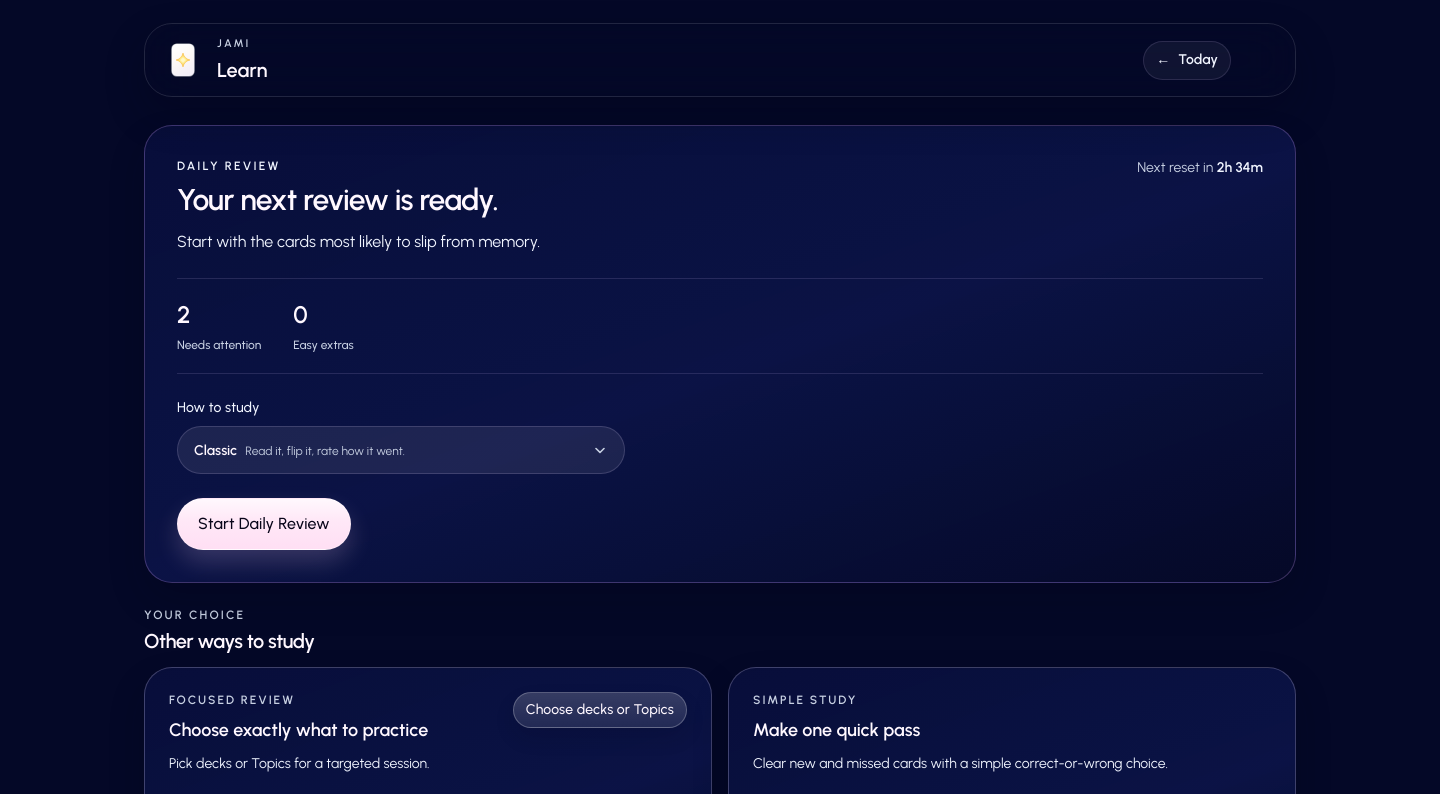
it: the answer-first modes › defaults to Classic so nobody's review changes without asking
Click the button "Start Daily Review": (264, 524) [177, 498, 351, 550]
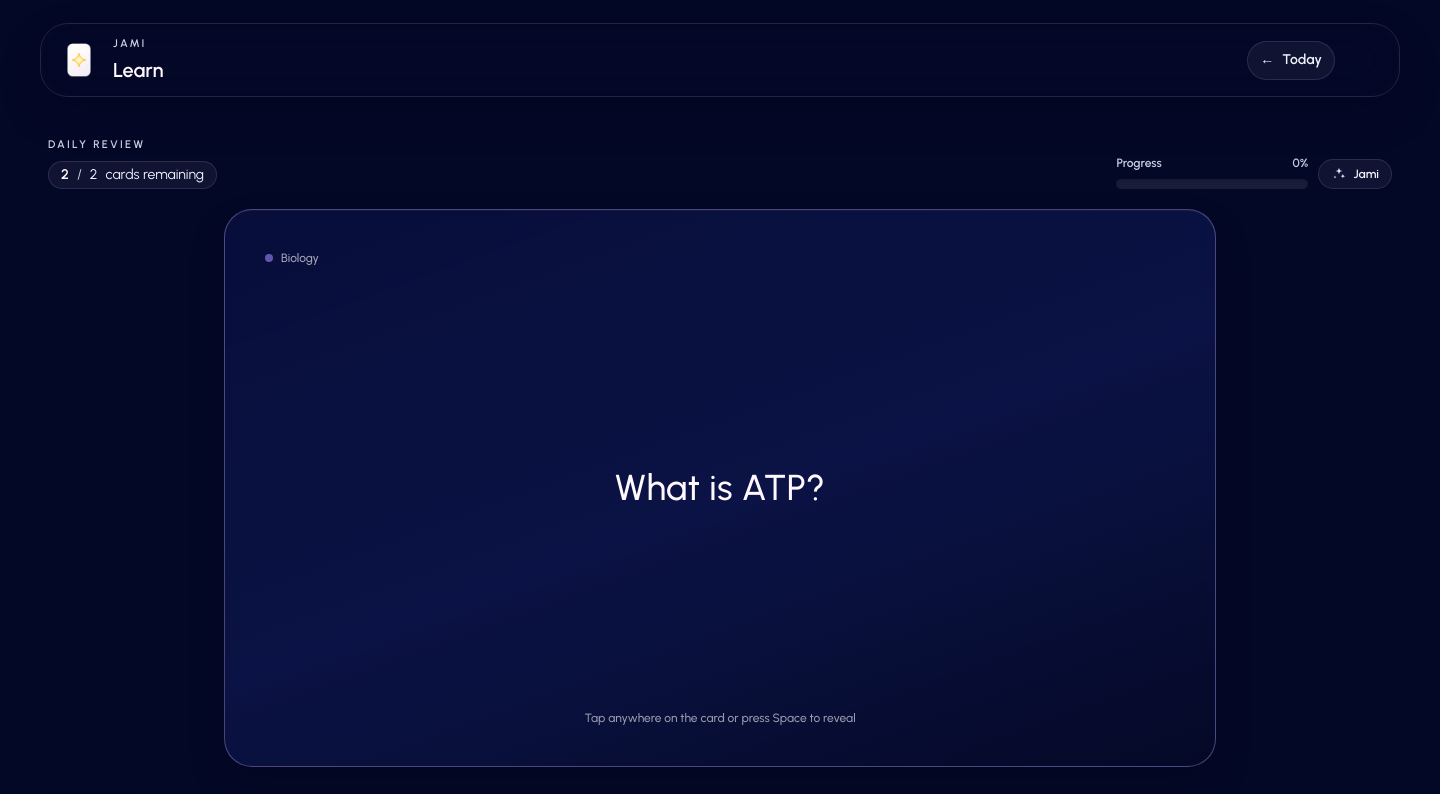
Check: the element with class "study-flashcard-face" that starts with "Biology" is shown, box [224, 209, 1216, 767]
